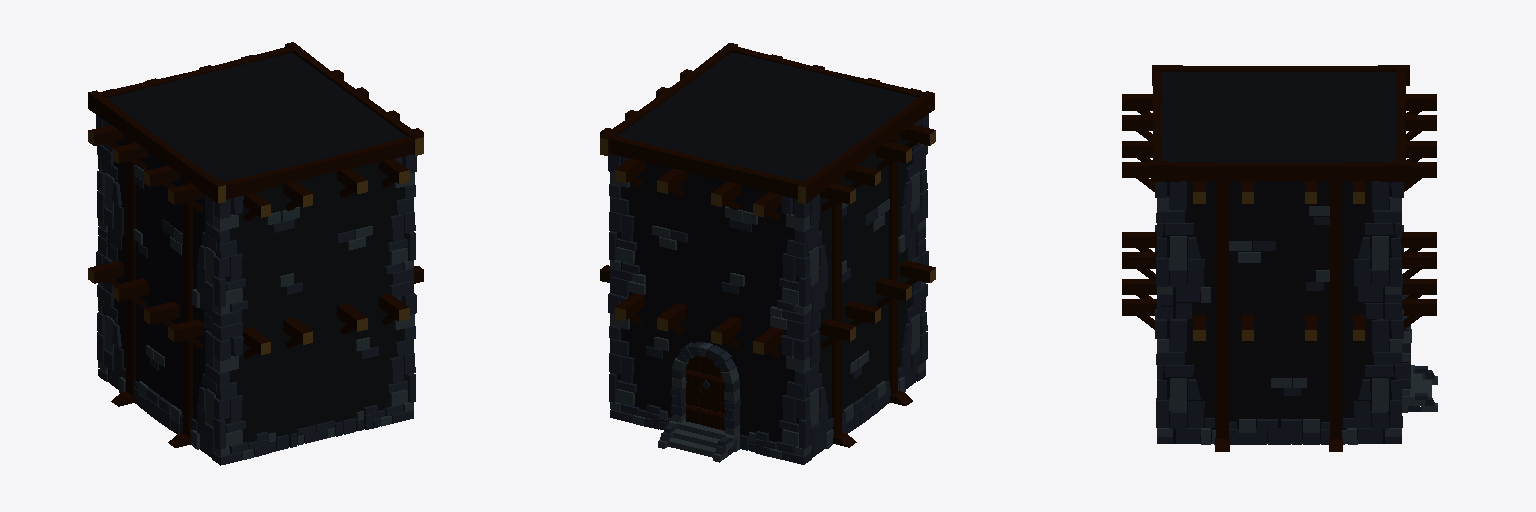
File: House_3_Cube.obj
3 views of the same model, side by side, from view 1: azimuth 30°, elevation 25°; view 2: azimuth 150°, elevation 25°; view 3: azimuth 270°, elevation 25° (orthographic).
Visible parts, largest first — view 1: House_3_Cube.305; view 2: House_3_Cube.305; view 3: House_3_Cube.305.
Boxes of the visible parts, <box> form: House_3_Cube.305: <box>88,42,423,465</box>; House_3_Cube.305: <box>600,43,935,464</box>; House_3_Cube.305: <box>1122,65,1437,451</box>.
Bounding box in the file's own units: 1.94 × 2.09 × 2.12.